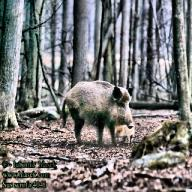boar: (60, 80, 134, 146)
